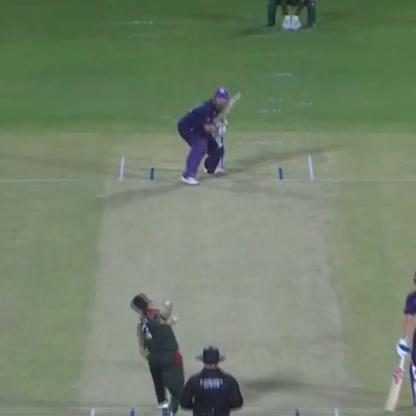ball: (169, 316, 181, 328), (161, 298, 172, 308)
pitch: (83, 150, 336, 415)
